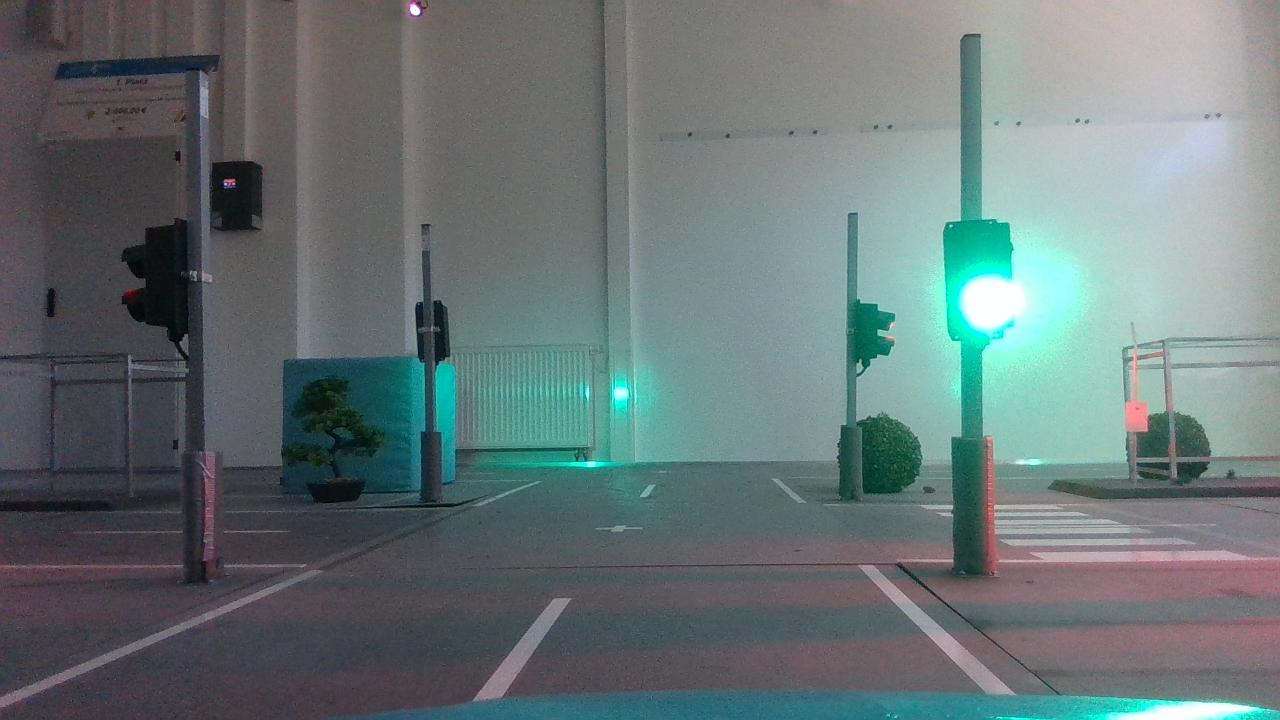traffic_light_green: (924, 204, 1031, 349)
